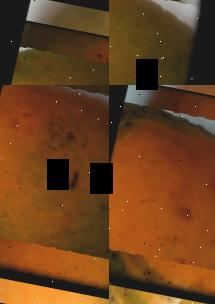PartiallyRipe: (0, 85, 109, 299), (109, 0, 214, 85), (0, 21, 109, 85)
Ripe: (109, 85, 215, 304)
